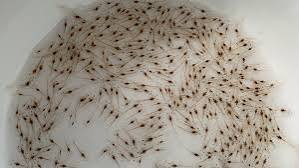shrimp-seed: (113, 137, 131, 147), (82, 116, 97, 128), (6, 156, 21, 166), (76, 149, 90, 159), (127, 134, 138, 146), (12, 107, 23, 119), (13, 145, 26, 155), (135, 147, 149, 156), (190, 150, 205, 158), (199, 141, 210, 151), (143, 136, 155, 145), (211, 136, 221, 146), (50, 106, 63, 113), (98, 103, 113, 109), (13, 122, 23, 131), (149, 26, 157, 37), (30, 49, 44, 55), (45, 91, 52, 103), (68, 122, 80, 129), (141, 70, 150, 79), (118, 152, 127, 161), (127, 150, 136, 159), (46, 136, 56, 144), (32, 146, 45, 152), (111, 114, 126, 119), (102, 23, 114, 29), (112, 37, 121, 45), (69, 32, 78, 40), (57, 32, 66, 40), (242, 65, 250, 74), (151, 59, 160, 67), (225, 100, 233, 109), (244, 119, 252, 128), (219, 147, 227, 156), (188, 127, 197, 135), (157, 116, 166, 124), (154, 147, 166, 153), (33, 101, 42, 109), (27, 117, 35, 126), (27, 153, 36, 161), (210, 40, 217, 50), (64, 89, 74, 96), (185, 109, 195, 116), (263, 124, 270, 134), (20, 113, 27, 123), (73, 14, 84, 20), (88, 76, 99, 82), (181, 116, 192, 122), (136, 123, 147, 129), (93, 4, 101, 12), (119, 31, 127, 39), (103, 56, 111, 64), (39, 121, 47, 129), (133, 21, 142, 28), (251, 65, 258, 74), (214, 59, 221, 68), (166, 78, 175, 85), (31, 67, 40, 74), (23, 79, 32, 86), (33, 86, 42, 93), (78, 95, 87, 102), (276, 133, 285, 140), (156, 125, 165, 132), (32, 113, 41, 120), (17, 132, 26, 139), (108, 52, 118, 58), (133, 63, 143, 69), (83, 68, 93, 74), (108, 85, 114, 95), (206, 151, 216, 157), (94, 16, 102, 23), (63, 21, 70, 29), (89, 41, 97, 48), (205, 59, 213, 66), (196, 67, 203, 75), (168, 70, 176, 77), (113, 89, 120, 97), (192, 108, 199, 116), (263, 92, 271, 99), (257, 97, 264, 105), (266, 105, 274, 112), (247, 95, 255, 102), (244, 111, 251, 119), (223, 122, 231, 129), (241, 152, 248, 160), (52, 159, 59, 167), (38, 156, 46, 163), (78, 57, 89, 62), (156, 139, 167, 144), (150, 36, 159, 42), (120, 72, 129, 78), (38, 62, 44, 71), (16, 92, 25, 98), (121, 95, 130, 101), (66, 113, 75, 119), (100, 147, 109, 153), (64, 144, 70, 153), (215, 51, 225, 56), (107, 74, 117, 79), (123, 81, 133, 86), (139, 83, 149, 88), (148, 96, 158, 101), (172, 18, 179, 25), (172, 31, 179, 38), (101, 32, 108, 39), (228, 82, 235, 89), (87, 97, 94, 104), (201, 103, 208, 110), (167, 115, 174, 122), (108, 108, 115, 115), (166, 5, 172, 13), (161, 18, 167, 26), (188, 26, 196, 32), (98, 50, 106, 56), (138, 53, 146, 59), (233, 28, 241, 34), (225, 57, 233, 63), (210, 75, 218, 81), (132, 87, 140, 93), (166, 85, 172, 93), (57, 55, 63, 63), (49, 50, 57, 56), (52, 66, 58, 74), (57, 86, 65, 92), (167, 102, 173, 110), (201, 90, 207, 98), (230, 93, 236, 101), (227, 109, 233, 117), (258, 135, 264, 143), (268, 137, 274, 145), (208, 110, 214, 118), (204, 114, 212, 120), (203, 125, 209, 133), (219, 129, 227, 135), (227, 134, 233, 142), (228, 152, 236, 158), (109, 155, 117, 161), (47, 107, 53, 115), (177, 43, 182, 52), (113, 46, 122, 51), (279, 107, 288, 112), (239, 125, 244, 134), (29, 105, 38, 110), (160, 9, 166, 16), (81, 19, 88, 25), (138, 27, 144, 34), (186, 39, 192, 46), (79, 27, 86, 33), (50, 41, 57, 47), (85, 47, 91, 54), (149, 47, 156, 53), (239, 37, 246, 43), (222, 66, 228, 73), (215, 68, 222, 74), (186, 72, 193, 78), (184, 92, 190, 99), (68, 54, 75, 60), (54, 79, 61, 85), (132, 103, 139, 109), (241, 97, 248, 103), (253, 108, 259, 115), (252, 129, 258, 136), (232, 122, 238, 129), (242, 139, 248, 146), (225, 159, 232, 165), (148, 114, 155, 120), (153, 8, 161, 13), (193, 18, 198, 26), (106, 15, 111, 23), (90, 24, 98, 29), (167, 59, 175, 64), (184, 49, 189, 57), (242, 43, 250, 48), (120, 64, 130, 68), (91, 67, 99, 72), (66, 70, 74, 75), (154, 100, 162, 105), (134, 0, 140, 6), (147, 0, 153, 6), (113, 16, 119, 22), (126, 25, 132, 31), (70, 26, 76, 32), (164, 53, 173, 57), (228, 45, 234, 51), (182, 60, 191, 64), (253, 79, 259, 85), (239, 80, 245, 86), (193, 74, 199, 80), (184, 80, 190, 86), (127, 69, 136, 73), (235, 99, 241, 105), (246, 162, 252, 168), (149, 124, 155, 130), (62, 107, 68, 113), (132, 7, 139, 12), (177, 4, 184, 9), (218, 45, 225, 50), (231, 68, 236, 75), (161, 67, 168, 72), (206, 80, 213, 85), (221, 77, 228, 82), (221, 88, 226, 95), (196, 82, 203, 87), (194, 86, 199, 93), (181, 87, 188, 92), (143, 89, 150, 94), (52, 59, 59, 64), (104, 86, 109, 93), (123, 102, 130, 107), (264, 112, 269, 119), (268, 116, 273, 123), (263, 159, 268, 166), (139, 46, 147, 50), (58, 41, 66, 45), (126, 51, 134, 55), (201, 42, 205, 50), (232, 67, 240, 71), (239, 75, 247, 79), (107, 63, 115, 67), (76, 53, 84, 57), (98, 89, 102, 97), (260, 110, 264, 118), (25, 135, 29, 143), (29, 139, 33, 147), (105, 0, 111, 5), (141, 8, 146, 14), (147, 4, 152, 10), (186, 11, 192, 16), (200, 8, 206, 13), (201, 24, 206, 30), (137, 38, 143, 43), (117, 55, 122, 61), (195, 52, 200, 58), (248, 47, 254, 52), (190, 61, 196, 66), (218, 83, 224, 88), (147, 68, 153, 73), (182, 103, 188, 108), (242, 102, 248, 107), (263, 137, 268, 143), (234, 134, 239, 140), (251, 139, 256, 145), (238, 143, 243, 149), (127, 16, 134, 20), (182, 18, 189, 22), (143, 20, 150, 24), (191, 32, 198, 36), (87, 32, 94, 36), (200, 75, 207, 79), (136, 109, 143, 113), (176, 102, 180, 109), (249, 149, 253, 156), (96, 65, 105, 68), (116, 7, 121, 12), (211, 16, 216, 21), (217, 18, 222, 23), (81, 41, 86, 46), (201, 48, 206, 53), (240, 57, 245, 62), (202, 65, 207, 70), (246, 86, 251, 91), (192, 90, 197, 95), (159, 88, 164, 93), (163, 87, 168, 92), (157, 107, 162, 112), (179, 10, 185, 14), (162, 31, 166, 37), (206, 32, 212, 36), (128, 44, 134, 48), (154, 55, 160, 59), (260, 79, 266, 83), (255, 86, 261, 90), (105, 79, 113, 82), (60, 68, 64, 74), (173, 100, 177, 106), (242, 108, 248, 112), (276, 125, 280, 131), (214, 110, 218, 116), (247, 145, 251, 151), (255, 155, 259, 161), (255, 161, 259, 167), (151, 18, 158, 21), (219, 22, 226, 25), (115, 1, 119, 6), (126, 9, 130, 14), (156, 3, 161, 7), (112, 30, 116, 35), (158, 30, 162, 35), (219, 31, 223, 36), (189, 35, 194, 39), (72, 44, 76, 49), (235, 52, 240, 56), (52, 84, 56, 89), (254, 92, 259, 96), (272, 128, 276, 133), (168, 35, 171, 41), (148, 54, 154, 57), (122, 8, 126, 12), (199, 16, 203, 20), (67, 45, 71, 49), (65, 67, 69, 71), (198, 34, 201, 39), (223, 42, 228, 45), (240, 88, 245, 91), (127, 13, 131, 16), (168, 18, 172, 21), (225, 27, 229, 30), (209, 28, 213, 31), (202, 31, 206, 34), (200, 50, 202, 56), (212, 108, 214, 110)
